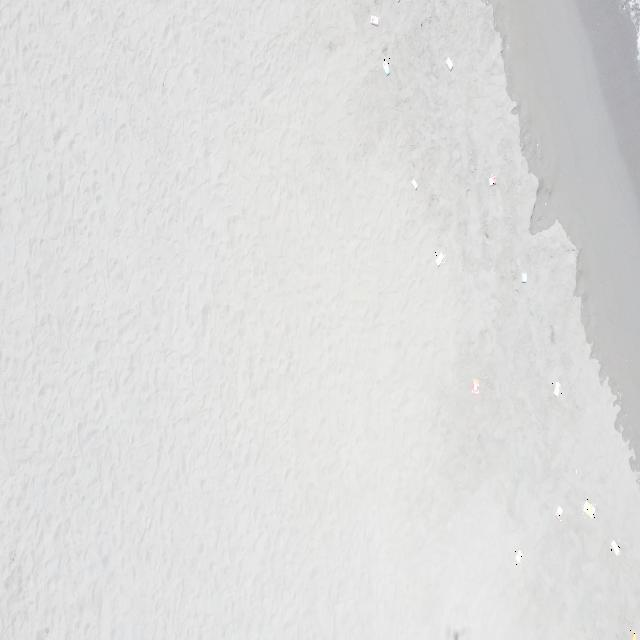Garbage: (583, 498, 593, 517), (609, 540, 620, 555), (433, 251, 444, 266), (471, 377, 479, 393), (552, 380, 560, 395), (515, 548, 522, 564), (444, 57, 452, 70), (383, 57, 388, 75), (369, 15, 379, 24), (555, 506, 562, 517), (488, 175, 495, 184), (520, 272, 527, 280), (631, 630, 636, 639), (411, 178, 415, 188)
